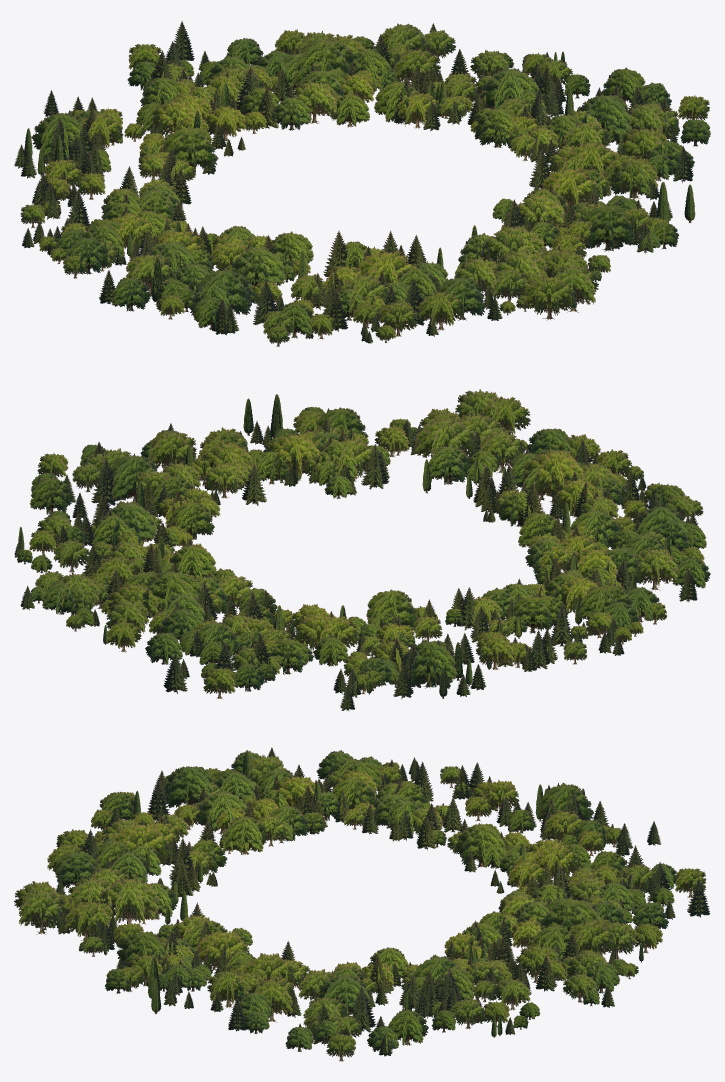
File: backdrop-hills-blueridge.glb
3 renders of one model, top to bottom at view 1: azimuth 30°, elevation 25°; view 2: azimuth 150°, elevation 25°; view 3: azimuth 270°, elevation 25°, orthographic. The views are drawn at different scales.
Visible parts, largest first — view 1: BackdropTrees_far1, BackdropTrees_far0, BackdropTrees_near1, BackdropTrees_mid0, BackdropTrees_mid1, BackdropTrees_near0; view 2: BackdropTrees_far1, BackdropTrees_near1, BackdropTrees_far0, BackdropTrees_near0, BackdropTrees_mid0, BackdropTrees_mid1; view 3: BackdropTrees_far0, BackdropTrees_far1, BackdropTrees_near1, BackdropTrees_mid0, BackdropTrees_near0, BackdropTrees_mid1.
Part boxes in pixels (x1,y1,x2,y2): BackdropTrees_far1: (14,23,709,342); BackdropTrees_far0: (20,21,710,346); BackdropTrees_near1: (101,74,598,306); BackdropTrees_mid0: (47,50,628,320); BackdropTrees_mid1: (43,38,618,320); BackdropTrees_near0: (111,64,574,285); BackdropTrees_far1: (17,394,706,699); BackdropTrees_near1: (153,433,617,650); BackdropTrees_far0: (14,389,710,711); BackdropTrees_near0: (153,438,621,656); BackdropTrees_mid0: (104,412,677,669); BackdropTrees_mid1: (92,425,647,677); BackdropTrees_far0: (18,750,709,1052); BackdropTrees_far1: (14,747,706,1061); BackdropTrees_near1: (112,770,578,993); BackdropTrees_mid0: (68,754,635,1009); BackdropTrees_near0: (132,776,570,988); BackdropTrees_mid1: (95,758,627,1005).
Size of what is drawn, in the model's own units: 258 by 20.87 by 258.
Materials: 6 (6 with a texture image).
